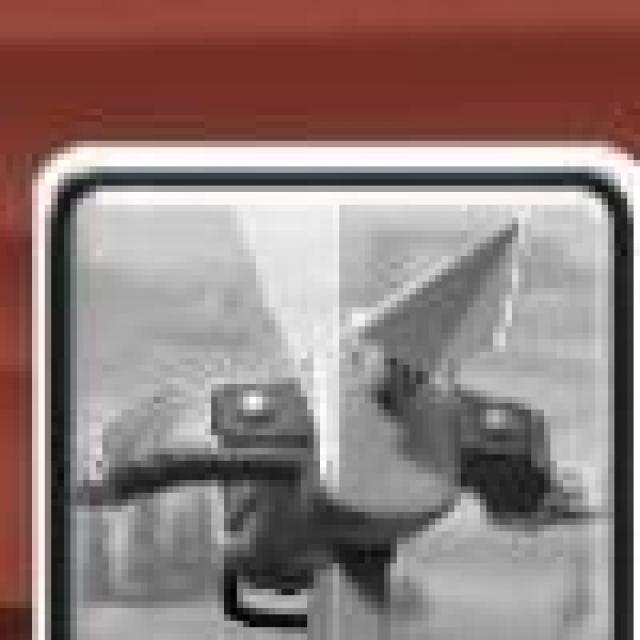X_Bow: (36, 147, 622, 640)
